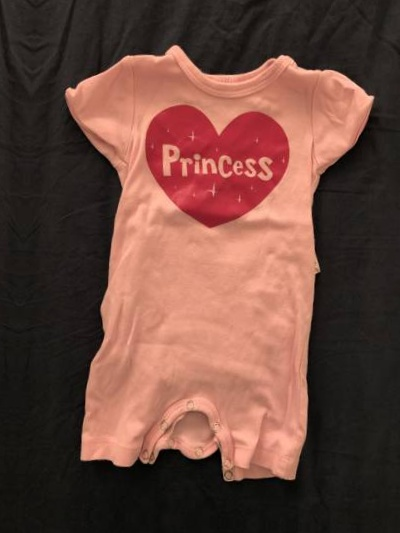Body: (16, 17, 391, 509), (0, 0, 28, 489), (0, 515, 0, 533)
